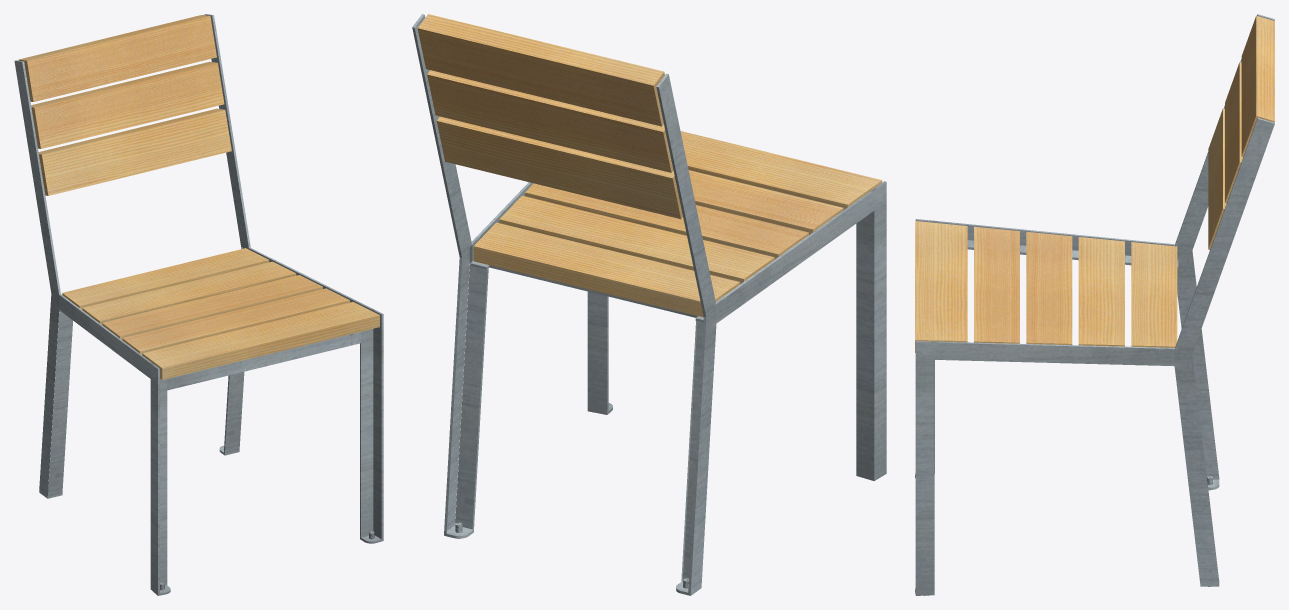
File: chair0001.obj
3 views of the same model, side by side, from view 1: azimuth 30°, elevation 25°; view 2: azimuth 150°, elevation 25°; view 3: azimuth 270°, elevation 25° (orthographic). The views are drawn at different scales.
Parts seen in each view (by area): view 1: Mesh11 x_Stuhlseite1 Group1 Model, Mesh5 Group2 Group1 Model, Mesh4 Group2 Group1 Model, Mesh8 Group2 Group1 Model, Mesh3 Group2 Group1 Model, Mesh15 x_Stuhlseite2 Group1 Model, Mesh1 Group2 Group1 Model, Mesh7 Group2 Group1 Model, Mesh2 Group2 Group1 Model, Mesh6 Group2 Group1 Model, Mesh14 x_Stuhlseite1 Group1 Model, Mesh9 Group2 Group1 Model (+1 smaller); view 2: Mesh11 x_Stuhlseite1 Group1 Model, Mesh5 Group2 Group1 Model, Mesh15 x_Stuhlseite2 Group1 Model, Mesh8 Group2 Group1 Model, Mesh4 Group2 Group1 Model, Mesh6 Group2 Group1 Model, Mesh2 Group2 Group1 Model, Mesh3 Group2 Group1 Model, Mesh7 Group2 Group1 Model, Mesh1 Group2 Group1 Model, Mesh14 x_Stuhlseite1 Group1 Model, Mesh18 x_Stuhlseite2 Group1 Model (+1 smaller); view 3: Mesh15 x_Stuhlseite2 Group1 Model, Mesh3 Group2 Group1 Model, Mesh1 Group2 Group1 Model, Mesh7 Group2 Group1 Model, Mesh2 Group2 Group1 Model, Mesh6 Group2 Group1 Model, Mesh18 x_Stuhlseite2 Group1 Model, Mesh11 x_Stuhlseite1 Group1 Model, Mesh5 Group2 Group1 Model, Mesh8 Group2 Group1 Model, Mesh4 Group2 Group1 Model, Mesh14 x_Stuhlseite1 Group1 Model.
Part boxes in pixels (<box>): Mesh11 x_Stuhlseite1 Group1 Model: <box>39,293,170,595</box>; Mesh5 Group2 Group1 Model: <box>18,15,216,101</box>; Mesh4 Group2 Group1 Model: <box>31,61,224,148</box>; Mesh8 Group2 Group1 Model: <box>38,108,231,195</box>; Mesh3 Group2 Group1 Model: <box>142,302,379,379</box>; Mesh15 x_Stuhlseite2 Group1 Model: <box>219,247,383,543</box>; Mesh1 Group2 Group1 Model: <box>122,288,349,354</box>; Mesh7 Group2 Group1 Model: <box>102,275,322,339</box>; Mesh2 Group2 Group1 Model: <box>82,261,296,324</box>; Mesh6 Group2 Group1 Model: <box>62,248,269,309</box>; Mesh14 x_Stuhlseite1 Group1 Model: <box>14,60,60,294</box>; Mesh9 Group2 Group1 Model: <box>167,331,361,390</box>; Mesh11 x_Stuhlseite1 Group1 Model: <box>676,181,886,595</box>; Mesh5 Group2 Group1 Model: <box>417,14,664,126</box>; Mesh15 x_Stuhlseite2 Group1 Model: <box>444,182,612,538</box>; Mesh8 Group2 Group1 Model: <box>436,116,682,219</box>; Mesh4 Group2 Group1 Model: <box>427,70,673,172</box>; Mesh6 Group2 Group1 Model: <box>473,222,739,317</box>; Mesh2 Group2 Group1 Model: <box>499,195,774,284</box>; Mesh3 Group2 Group1 Model: <box>680,131,882,209</box>; Mesh7 Group2 Group1 Model: <box>525,183,808,259</box>; Mesh1 Group2 Group1 Model: <box>688,170,843,234</box>; Mesh14 x_Stuhlseite1 Group1 Model: <box>656,73,715,317</box>; Mesh18 x_Stuhlseite2 Group1 Model: <box>412,14,471,257</box>; Mesh15 x_Stuhlseite2 Group1 Model: <box>915,341,1219,595</box>; Mesh3 Group2 Group1 Model: <box>915,221,967,352</box>; Mesh1 Group2 Group1 Model: <box>974,226,1019,343</box>; Mesh7 Group2 Group1 Model: <box>1026,232,1072,345</box>; Mesh2 Group2 Group1 Model: <box>1078,237,1124,346</box>; Mesh6 Group2 Group1 Model: <box>1131,242,1177,347</box>; Mesh18 x_Stuhlseite2 Group1 Model: <box>1175,117,1274,353</box>; Mesh11 x_Stuhlseite1 Group1 Model: <box>915,219,1219,489</box>; Mesh5 Group2 Group1 Model: <box>1241,15,1274,156</box>; Mesh8 Group2 Group1 Model: <box>1208,108,1226,249</box>; Mesh4 Group2 Group1 Model: <box>1225,62,1242,203</box>; Mesh14 x_Stuhlseite1 Group1 Model: <box>1175,14,1274,250</box>.
Size of the model in its own units: 22.21 by 39.66 by 27.43.
Materials: 3 (2 with a texture image).
